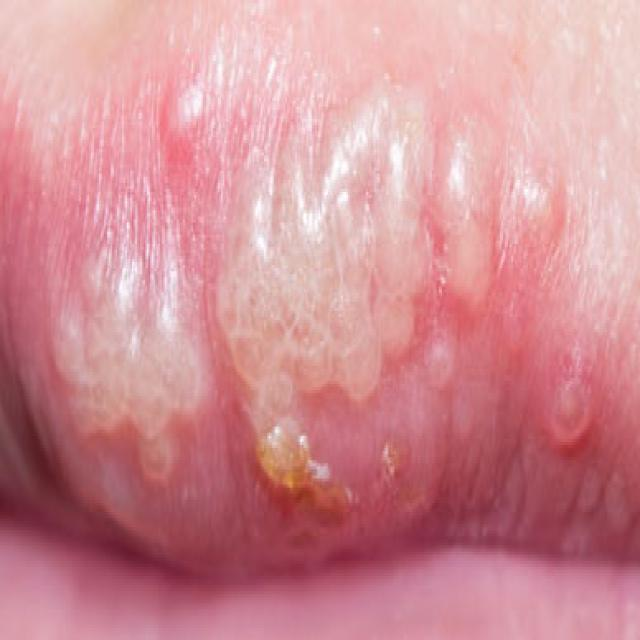left_region: (0, 0, 638, 579)
